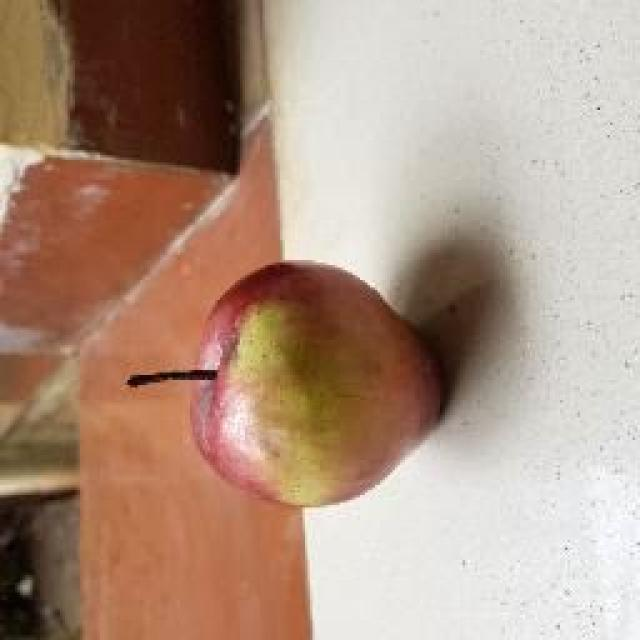Good_Apple: (125, 260, 450, 518)
